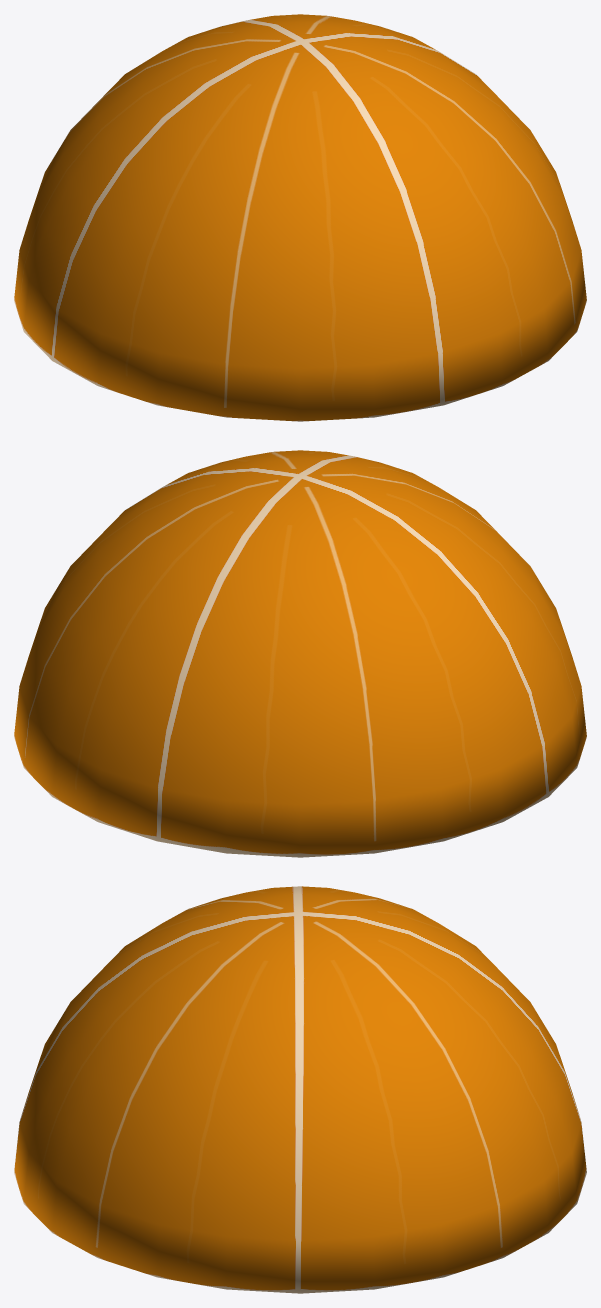
File: SphereCap.obj
3 renders of one model, top to bottom at view 1: azimuth 30°, elevation 25°; view 2: azimuth 150°, elevation 25°; view 3: azimuth 270°, elevation 25°, orthographic.
Visible parts, largest first — view 1: SphereCap_Sphere.004; view 2: SphereCap_Sphere.004; view 3: SphereCap_Sphere.004.
Part boxes in pixels (<box>): SphereCap_Sphere.004: <box>14,14,586,421</box>; SphereCap_Sphere.004: <box>14,450,586,857</box>; SphereCap_Sphere.004: <box>14,886,586,1293</box>.
Size of the model in its own units: 1 by 0.5 by 1.
Materials: 1 (1 with a texture image).
